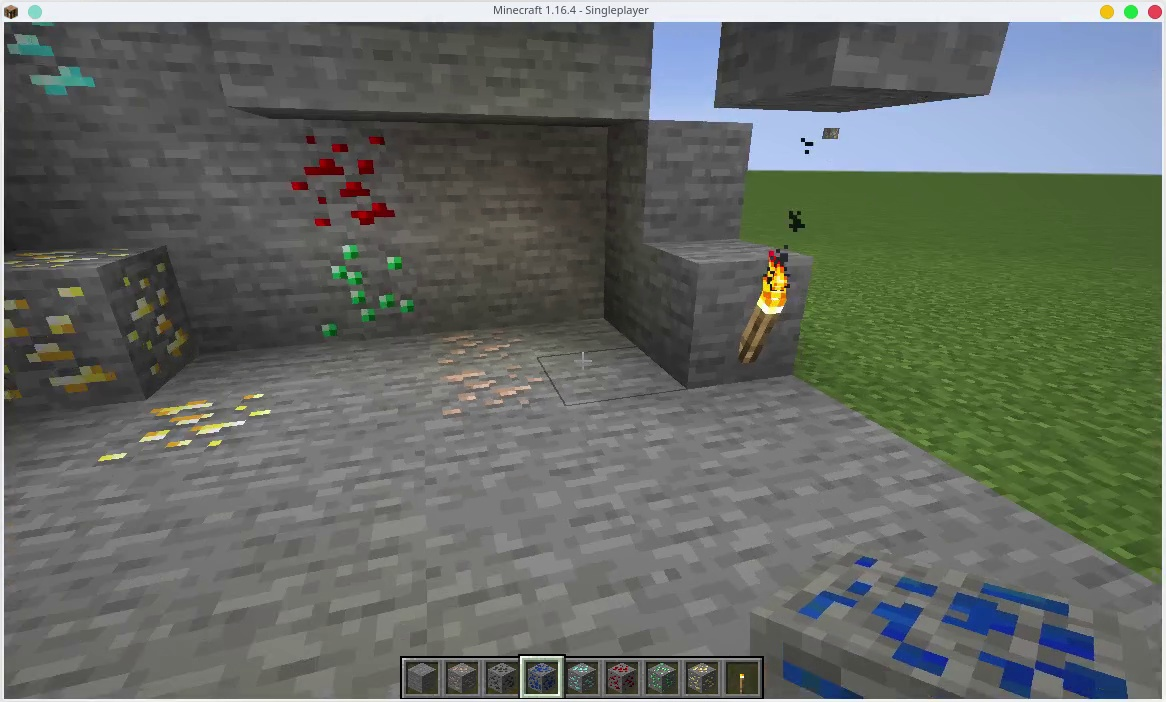gold: (1, 229, 194, 402), (110, 408, 300, 484), (687, 659, 719, 695)
